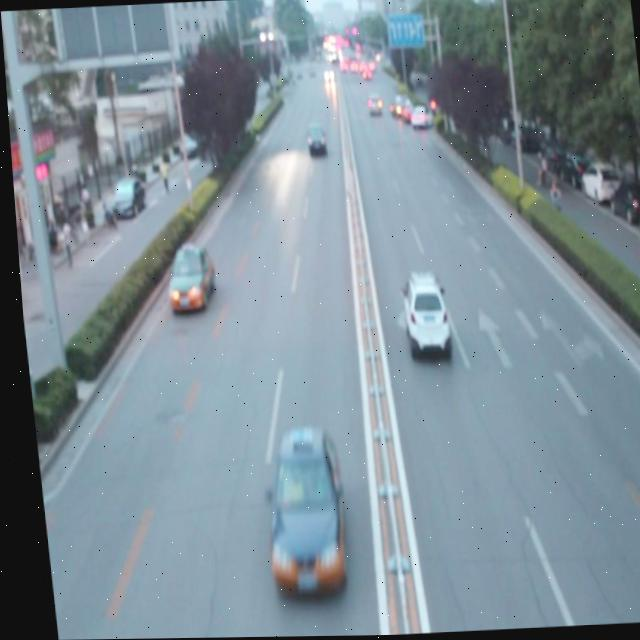car: (249, 421, 344, 593), (393, 269, 448, 364), (157, 241, 212, 315)
